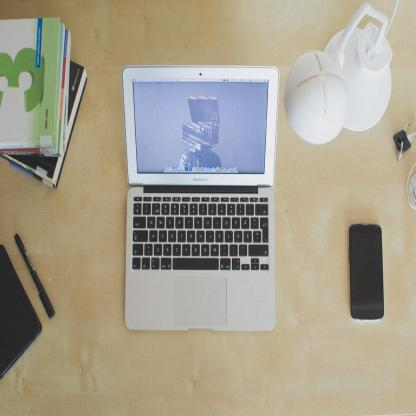board: (120, 64, 276, 331)
